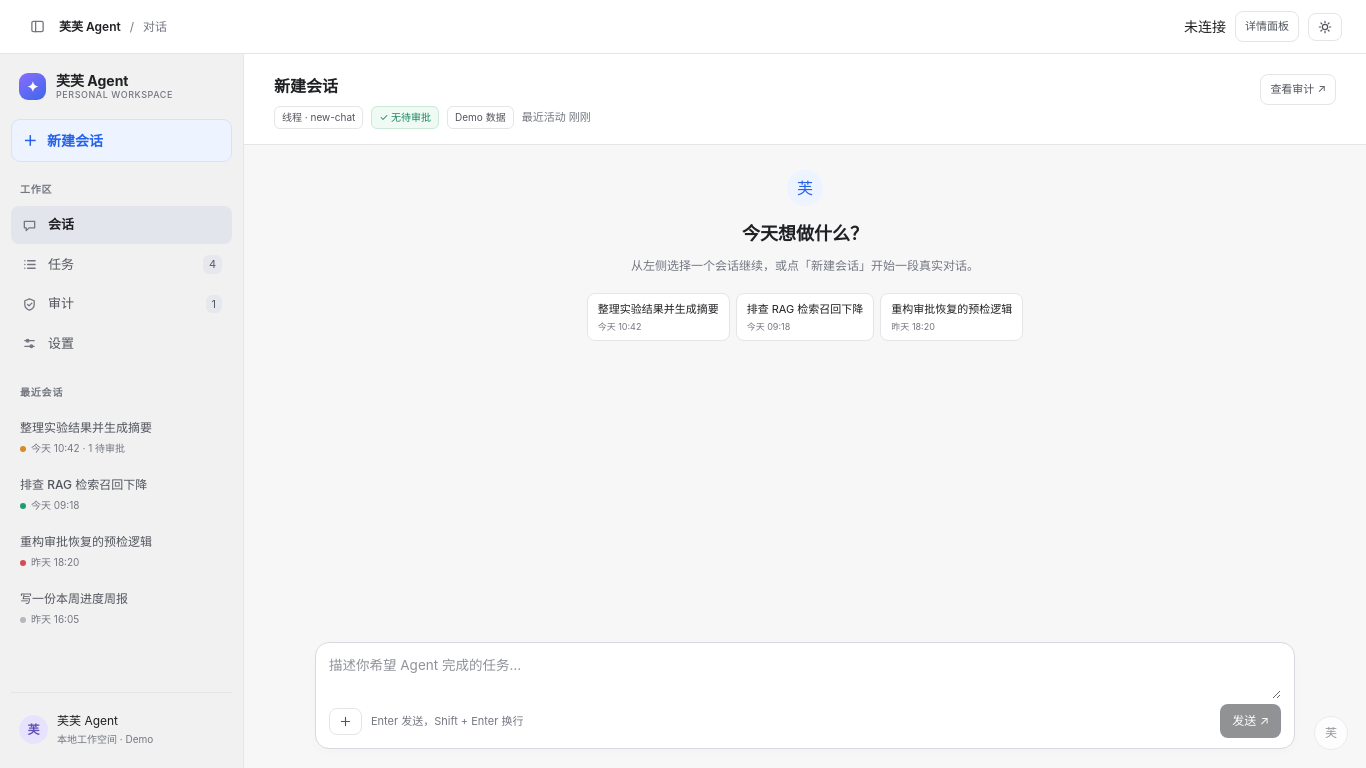
Scenario: App navigation › navigates to the audit page from the sidebar
Click the link titled "审计": (30, 304) x1=22 y1=295 x2=222 y2=313
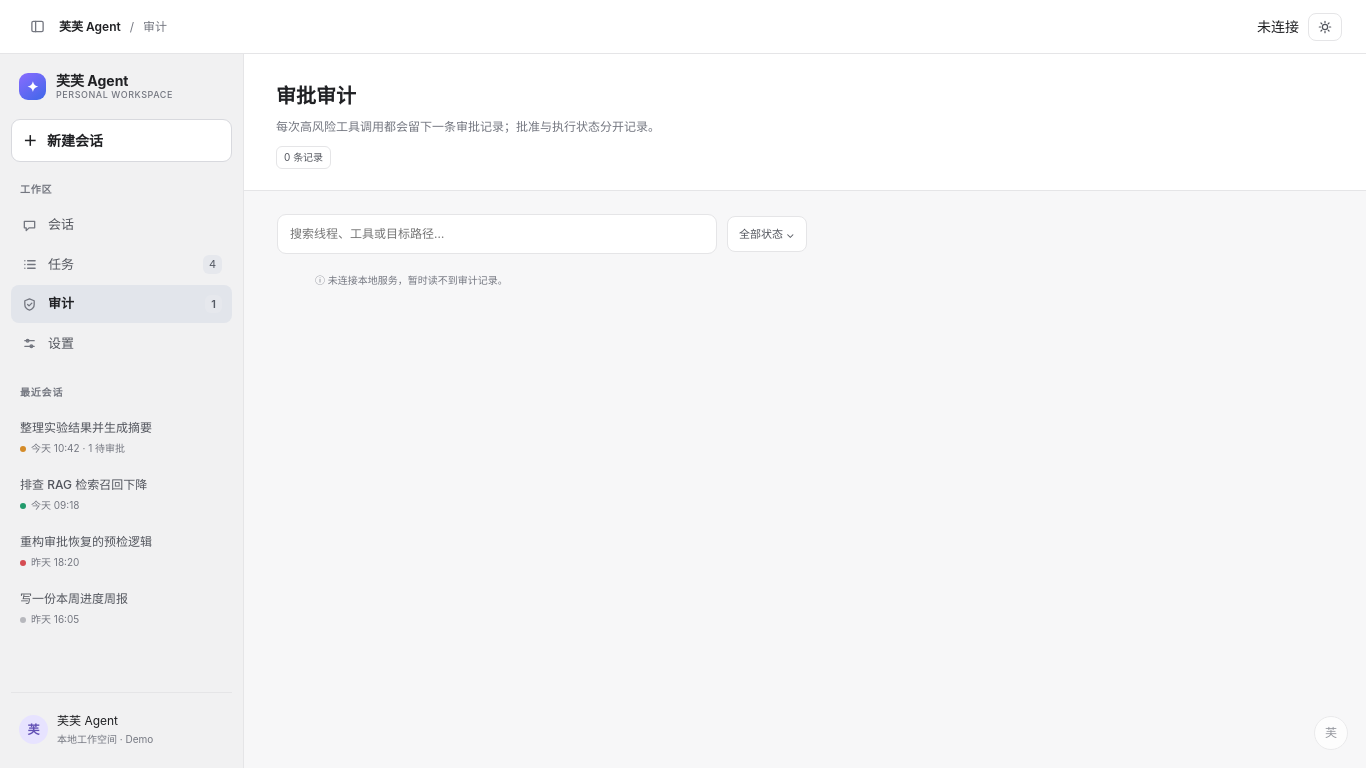
expect the heading "审批审计" is shown: met, box x1=276 y1=84 x2=356 y2=108
